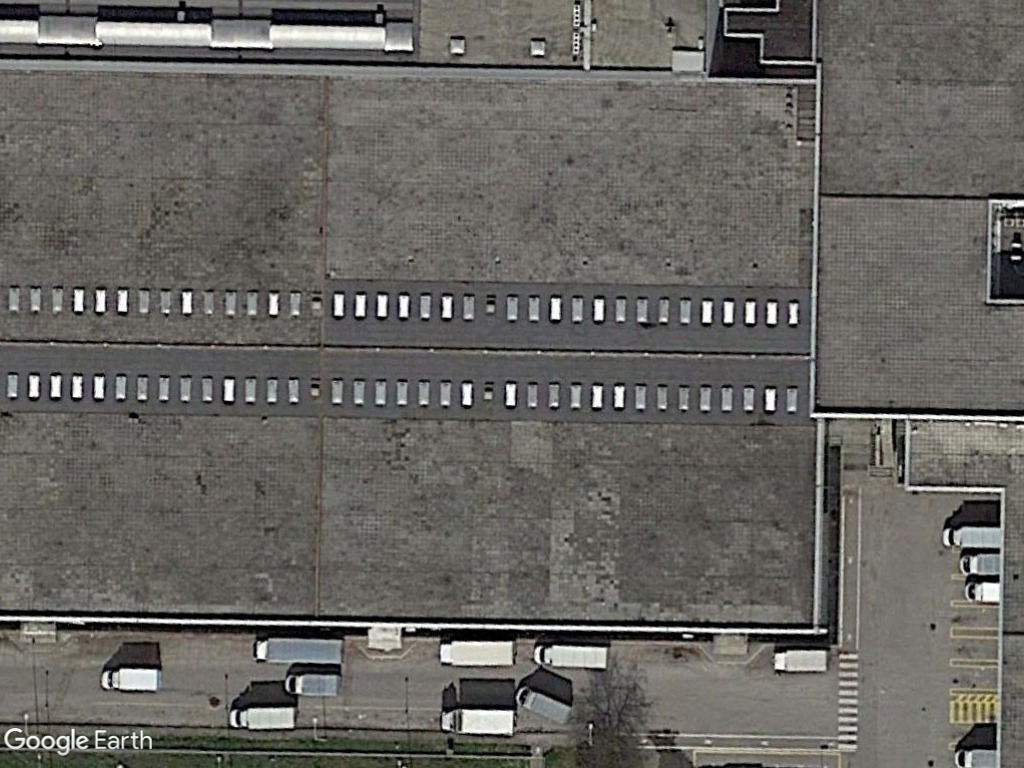truck: (253, 632, 350, 669), (433, 634, 522, 671), (512, 683, 580, 730), (436, 704, 520, 738), (93, 662, 168, 696), (530, 641, 613, 671), (225, 704, 304, 735), (937, 519, 1006, 551), (768, 644, 835, 675), (282, 672, 344, 698), (956, 551, 1004, 578), (960, 579, 1004, 607), (949, 745, 1000, 768)
